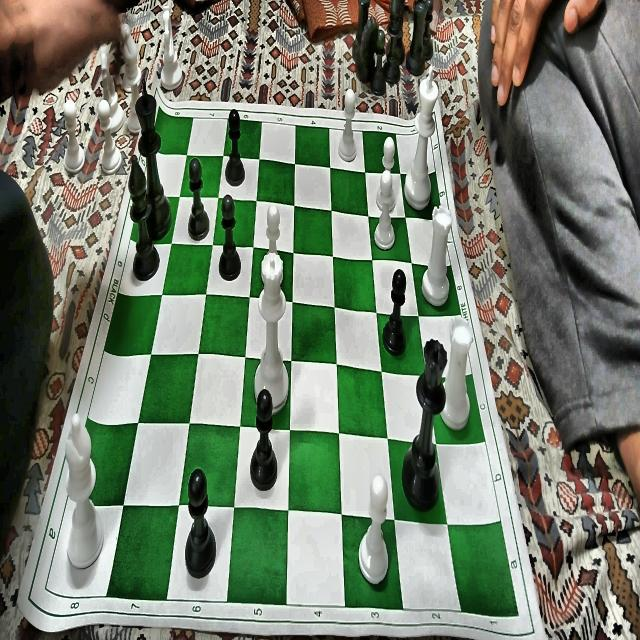BlackBishop: (123, 152, 160, 280)
BlackKing: (134, 81, 171, 242)
BlackPawn: (184, 462, 217, 581), (247, 388, 278, 492), (382, 264, 407, 358), (184, 155, 210, 240), (218, 192, 242, 282), (226, 110, 245, 186)
BlackQueen: (400, 336, 447, 513)
WhiteBishop: (62, 409, 104, 573), (121, 23, 144, 142)
WhiteKing: (402, 62, 440, 210)
WhiteKnight: (157, 9, 184, 96), (98, 50, 124, 132)
WhitePawn: (358, 468, 391, 588), (259, 202, 285, 296), (97, 97, 121, 177), (63, 96, 86, 173), (375, 168, 395, 250), (380, 137, 398, 219), (337, 89, 357, 162)
WhiteQueen: (254, 249, 289, 417)
WhiteRook: (442, 315, 473, 431), (421, 203, 452, 310)
